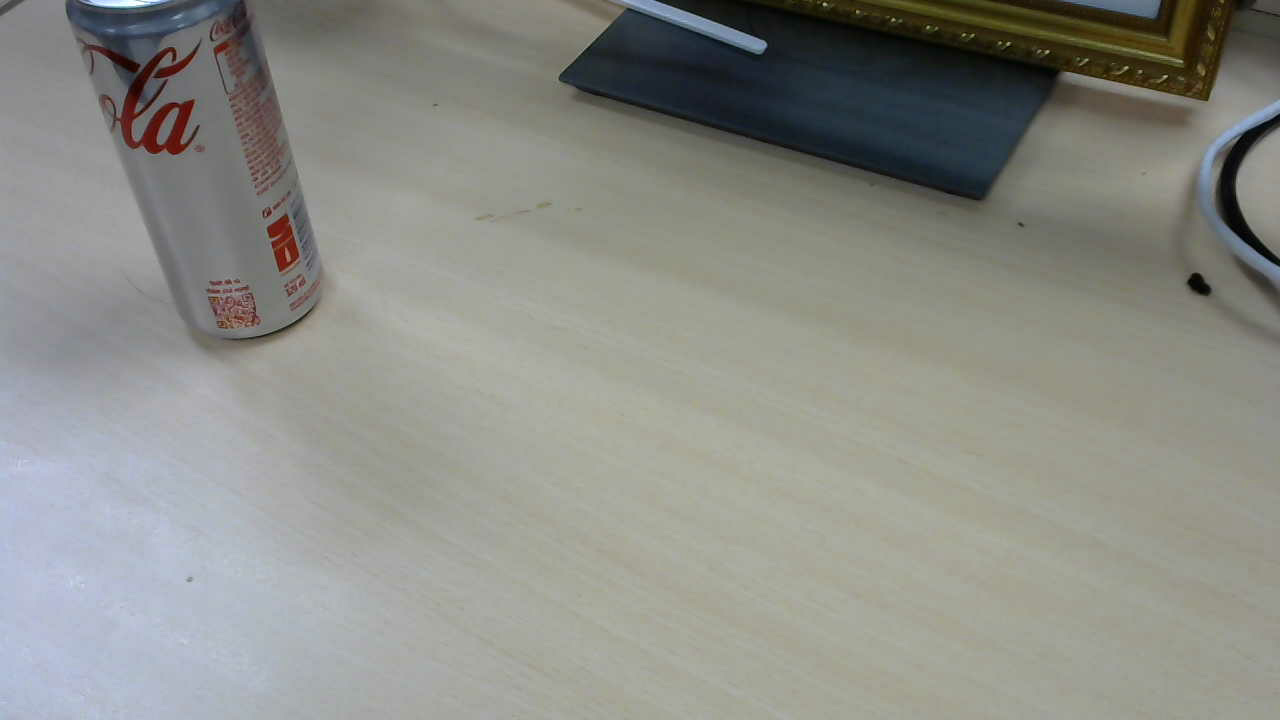Coca_Cola: (68, 5, 332, 346)
